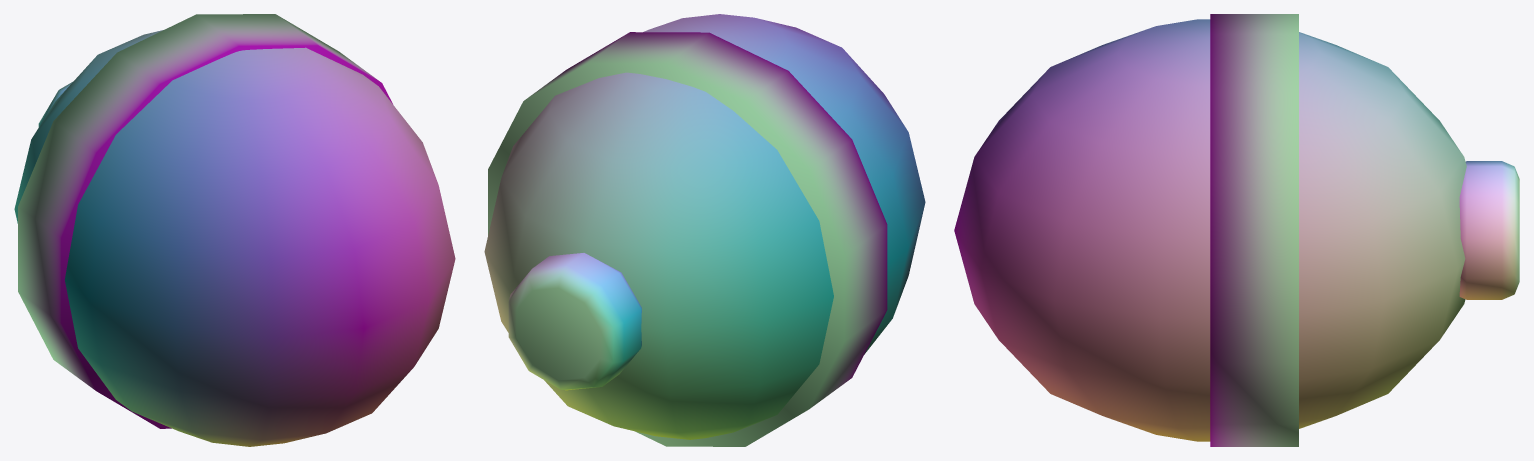
The model's file is fx_gnade.glb.
3 renders of one model, left to right at view 1: azimuth 30°, elevation 25°; view 2: azimuth 150°, elevation 25°; view 3: azimuth 270°, elevation 25°, orthographic. The views are drawn at different scales.
Parts seen in each view (by area): view 1: gnade; view 2: gnade; view 3: gnade.
Part boxes in pixels (x1=…): gnade: x1=14, y1=14, x2=455, y2=446; gnade: x1=484, y1=14, x2=925, y2=446; gnade: x1=954, y1=14, x2=1519, y2=446.
Size of the model in its own units: 0.0478 by 0.049 by 0.064.
